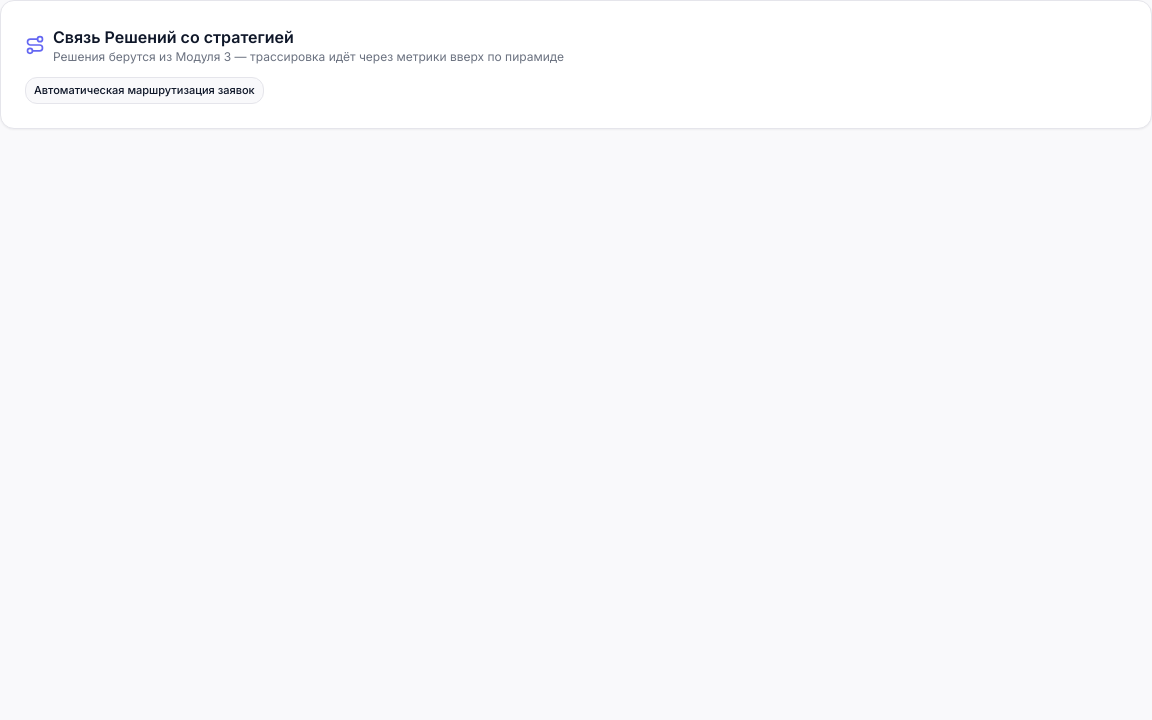
SolutionTrace › рекомендация с grounded=false помечена «не подтверждено цитатой»
Click the button with test id "trace-solution-kr-0:0".
click(144, 90)  # box [25,77,264,104]
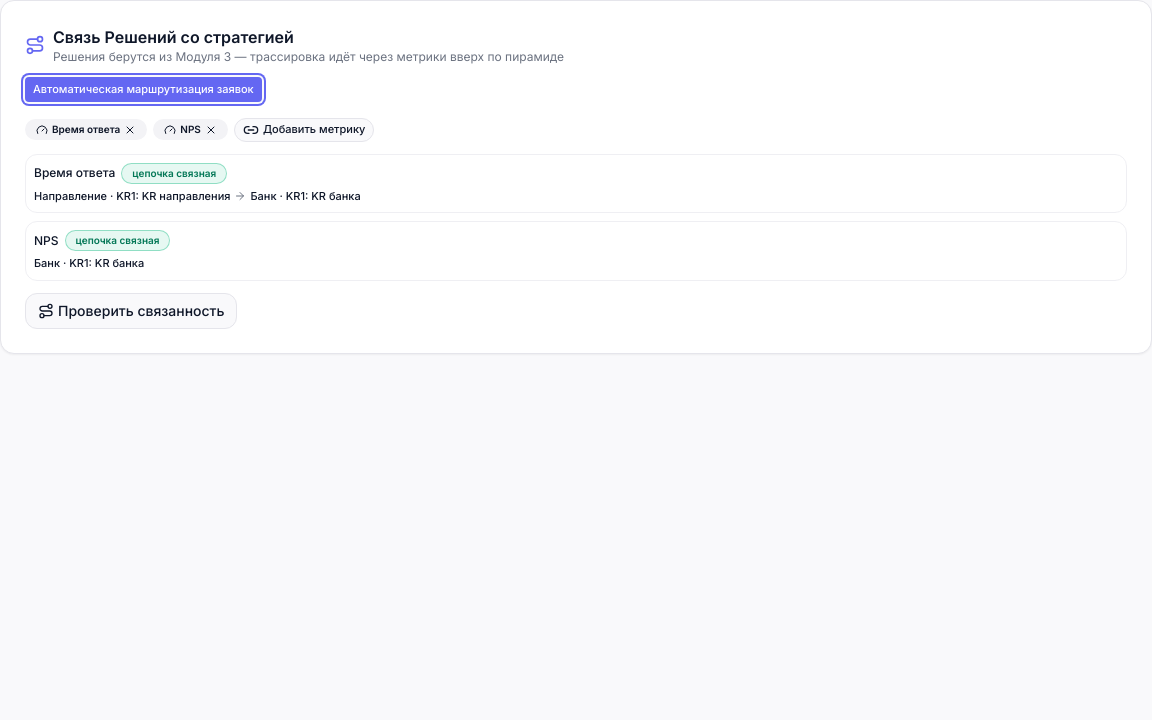
Click the button "Проверить связанность".
click(131, 310)  # box [25,292,238,328]
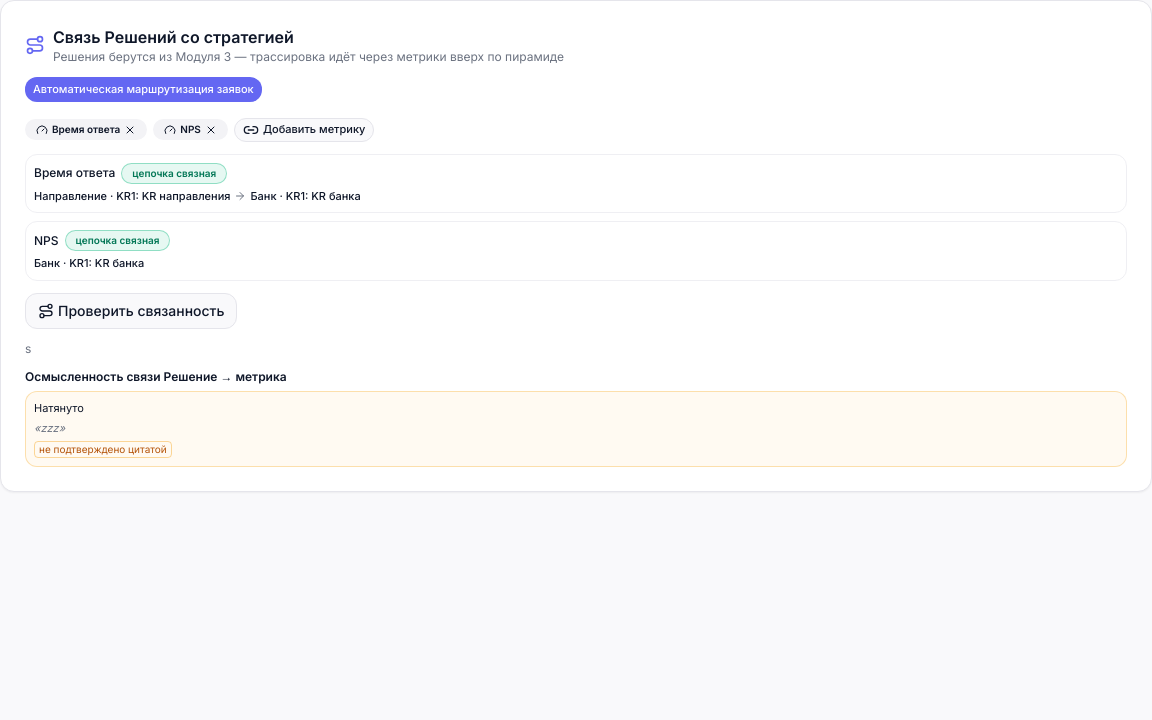
expect the text with test id "rec-ungrounded-0" reads "не подтверждено цитатой": met, box [39,442,167,454]
